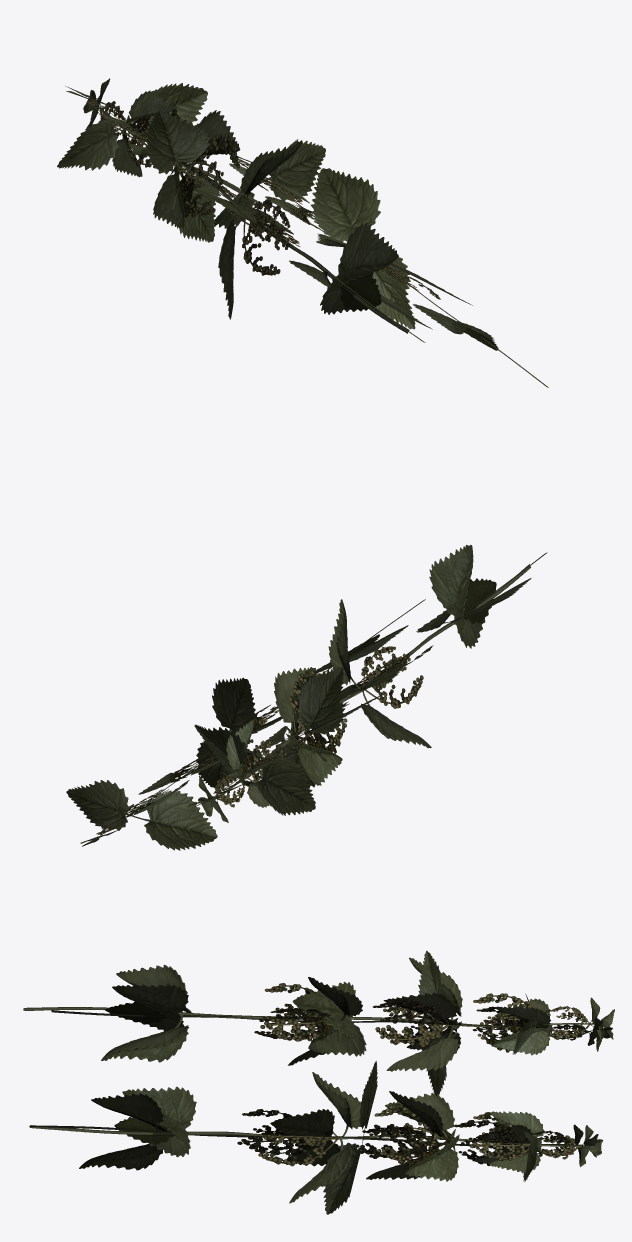
Rendered from TI_StingingNettel_03.fbx.
3 renders of one model, top to bottom at view 1: azimuth 30°, elevation 25°; view 2: azimuth 150°, elevation 25°; view 3: azimuth 270°, elevation 25°, orthographic. The views are drawn at different scales.
Parts seen in each view (by area): view 1: TI_StingingNettel_03; view 2: TI_StingingNettel_03; view 3: TI_StingingNettel_03.
Part boxes in pixels (x1,y1,x2,y2): TI_StingingNettel_03: [57, 78, 548, 387]; TI_StingingNettel_03: [66, 545, 547, 850]; TI_StingingNettel_03: [23, 950, 614, 1214].
Bounding box in the file's own units: 0.6256 × 0.4909 × 1.29.
